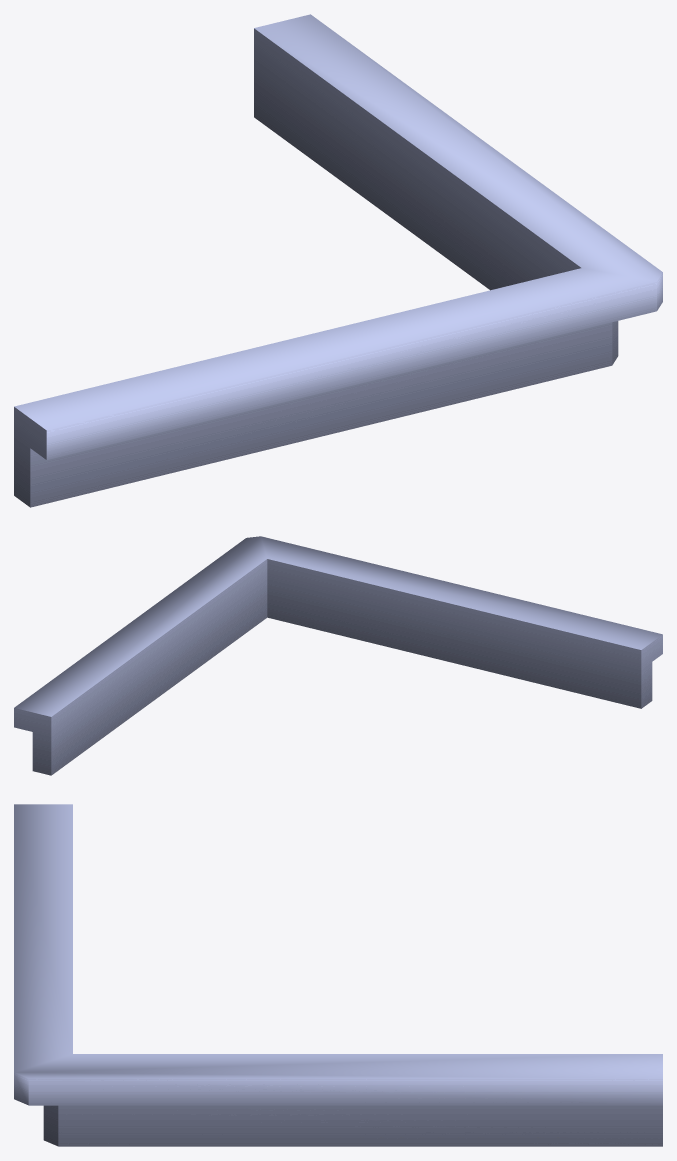
File: border-corner.glb
The picture shows the model from 3 angles, top to bottom: view 1: azimuth 30°, elevation 25°; view 2: azimuth 150°, elevation 25°; view 3: azimuth 270°, elevation 25°; orthographic projection. The views are drawn at different scales.
Visible parts, largest first — view 1: border-corner; view 2: border-corner; view 3: border-corner.
Part boxes in pixels (left/top/right/bottom): border-corner: left=14, top=14, right=662, bottom=507; border-corner: left=14, top=536, right=662, bottom=775; border-corner: left=14, top=804, right=662, bottom=1146.
Bounding box in the file's own units: 2.2 × 0.3 × 2.2.
1 material, 1 textured.
